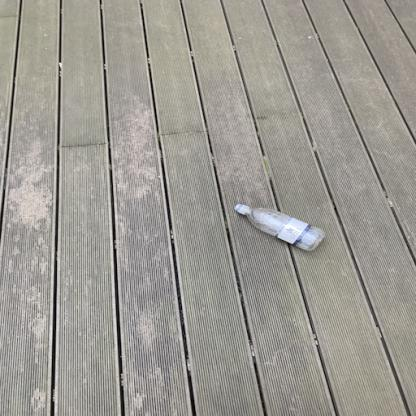trash: (234, 203, 325, 251)
